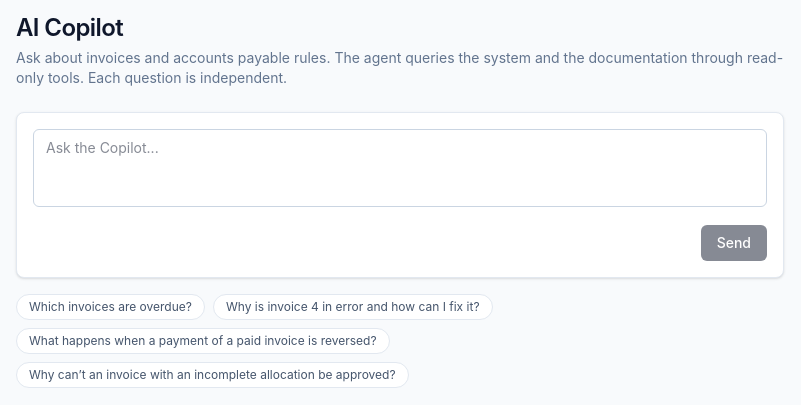
CopilotPage › sugestão preenche o campo sem enviar
Click the button "Which invoices are overdue?" at [110, 307], box [16,294,205,320]
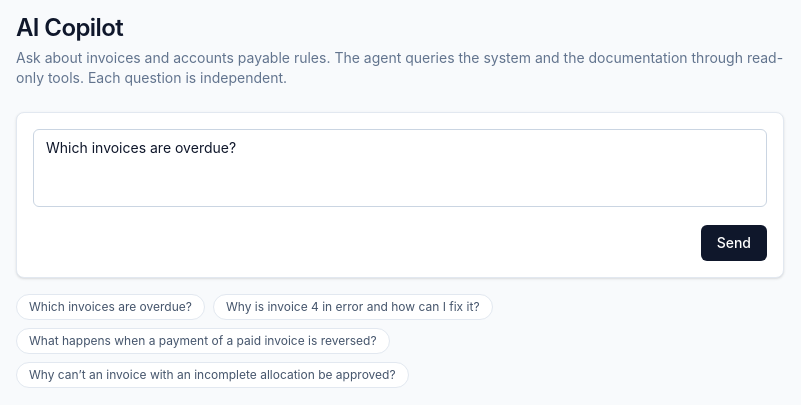
expect the text box named "Question" holds "Which invoices are overdue?": met, box [33,129,767,207]
